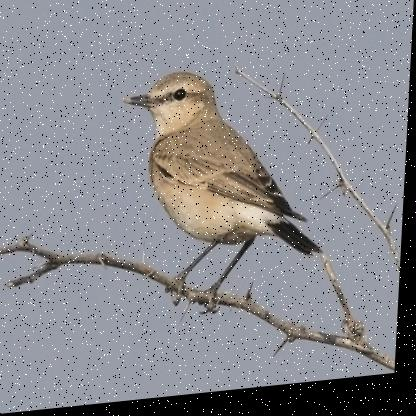Burung: (116, 59, 342, 326)
